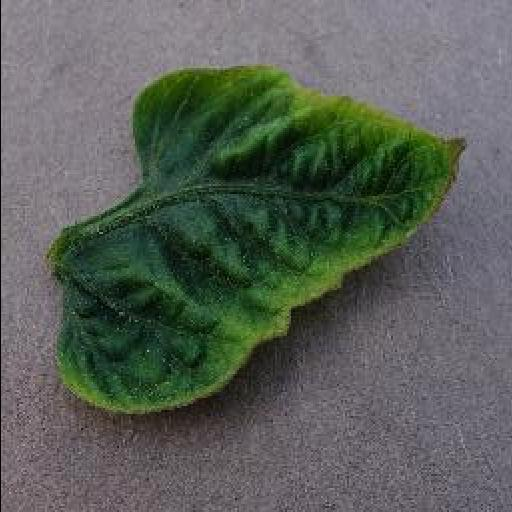disease_tomato: (48, 68, 472, 412)
